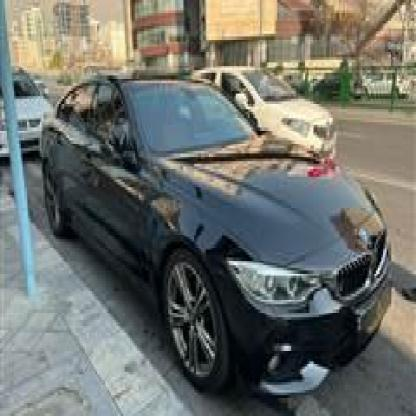Car: (36, 62, 397, 414), (192, 44, 345, 190), (0, 57, 62, 171)
